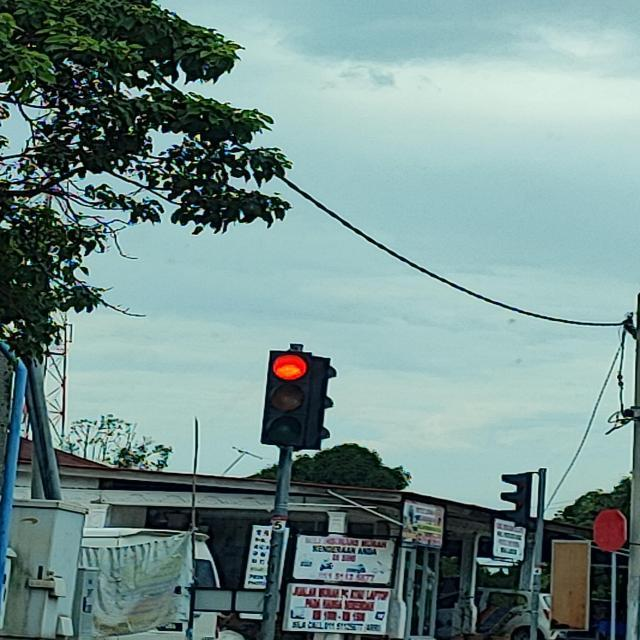red_light: (260, 350, 316, 444)
